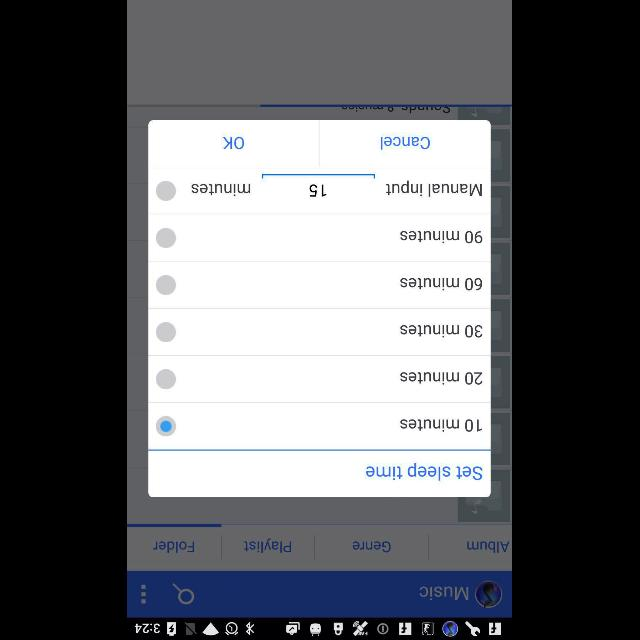checkbox: (157, 416, 177, 436), (157, 369, 176, 389), (157, 180, 176, 200), (157, 276, 177, 294), (157, 322, 176, 340), (157, 228, 176, 246)
icon: (173, 582, 195, 604), (142, 583, 146, 603)
image: (475, 580, 503, 608)
panel: (149, 120, 491, 498)
text: (367, 463, 483, 481), (387, 181, 483, 197), (401, 418, 483, 432), (401, 372, 483, 384), (401, 325, 483, 337), (401, 278, 483, 290), (401, 231, 483, 243), (420, 586, 470, 600), (244, 538, 292, 552), (468, 541, 510, 553), (153, 542, 194, 552), (353, 542, 391, 552)
textbutton: (321, 120, 491, 167), (150, 121, 320, 167)
uppertaskbar: (128, 617, 512, 639)
